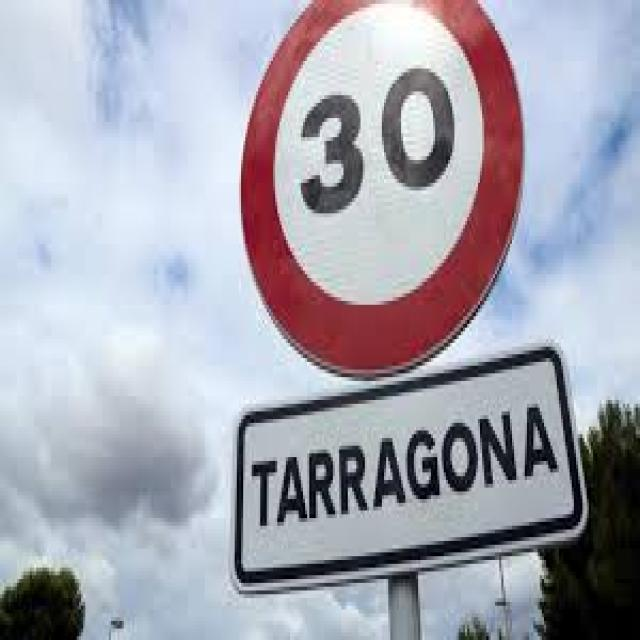Speed limit 30: (238, 1, 528, 378)
